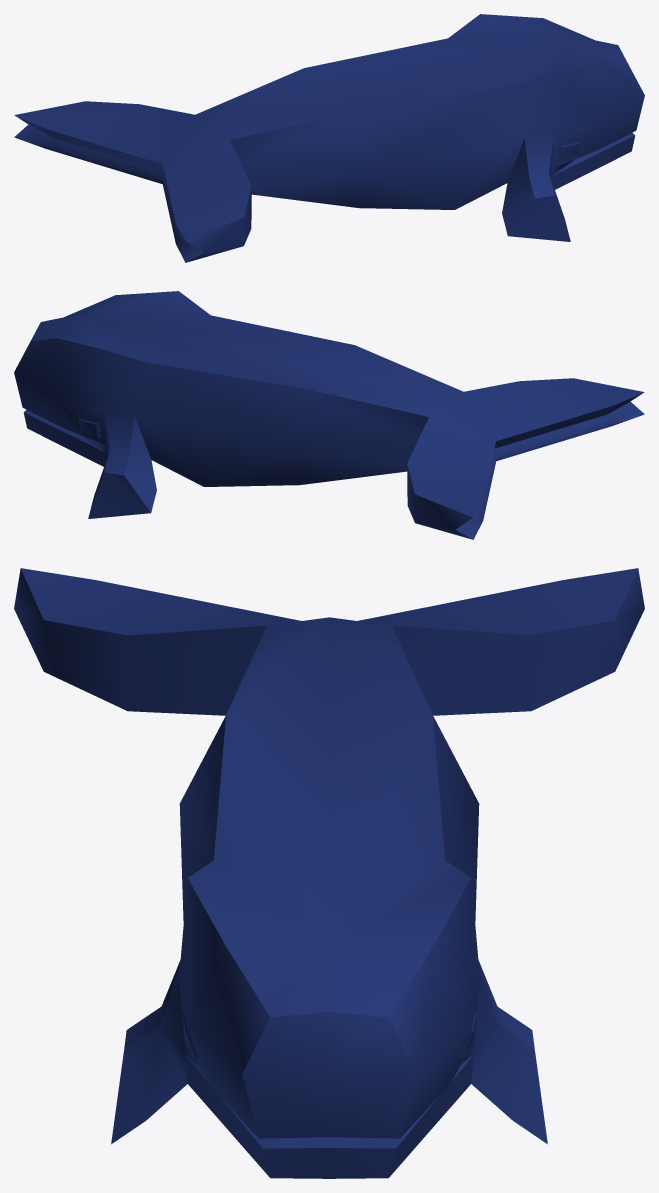
The model's file is whale_0.obj.
The picture shows the model from 3 angles, top to bottom: view 1: azimuth 30°, elevation 25°; view 2: azimuth 150°, elevation 25°; view 3: azimuth 270°, elevation 25°; orthographic projection. The views are drawn at different scales.
Visible parts, largest first — view 1: whale_Cube; view 2: whale_Cube; view 3: whale_Cube.
Boxes of the visible parts, x1=… form: whale_Cube: x1=14, y1=14, x2=644, y2=262; whale_Cube: x1=14, y1=291, x2=644, y2=539; whale_Cube: x1=14, y1=568, x2=644, y2=1178.
Size of the model in its own units: 7.58 by 2.09 by 4.35.
